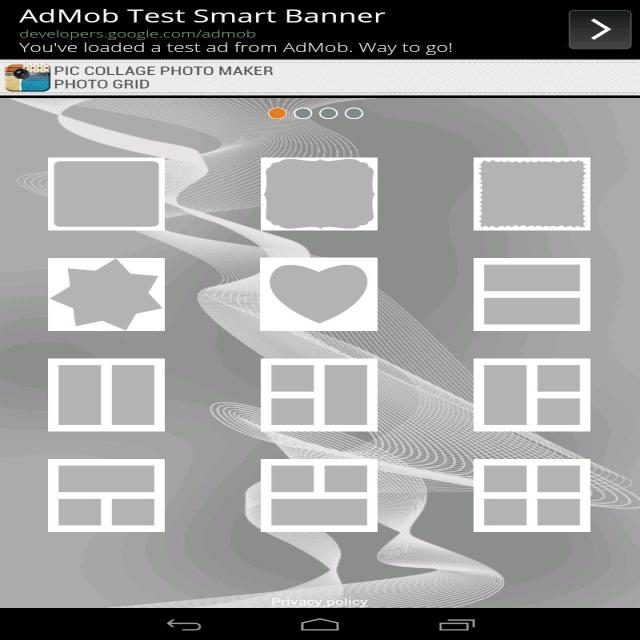heading: (52, 62, 281, 94)
iframe: (0, 0, 640, 60)
image: (0, 96, 640, 608)
